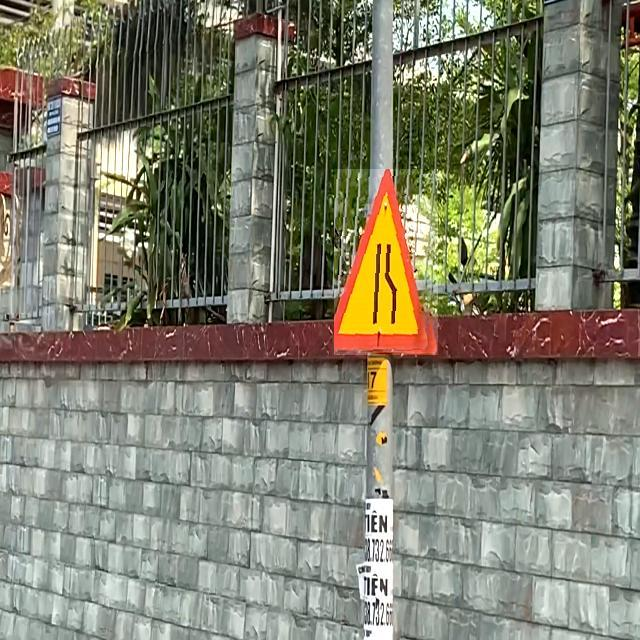W-203c: (334, 169, 438, 355)
